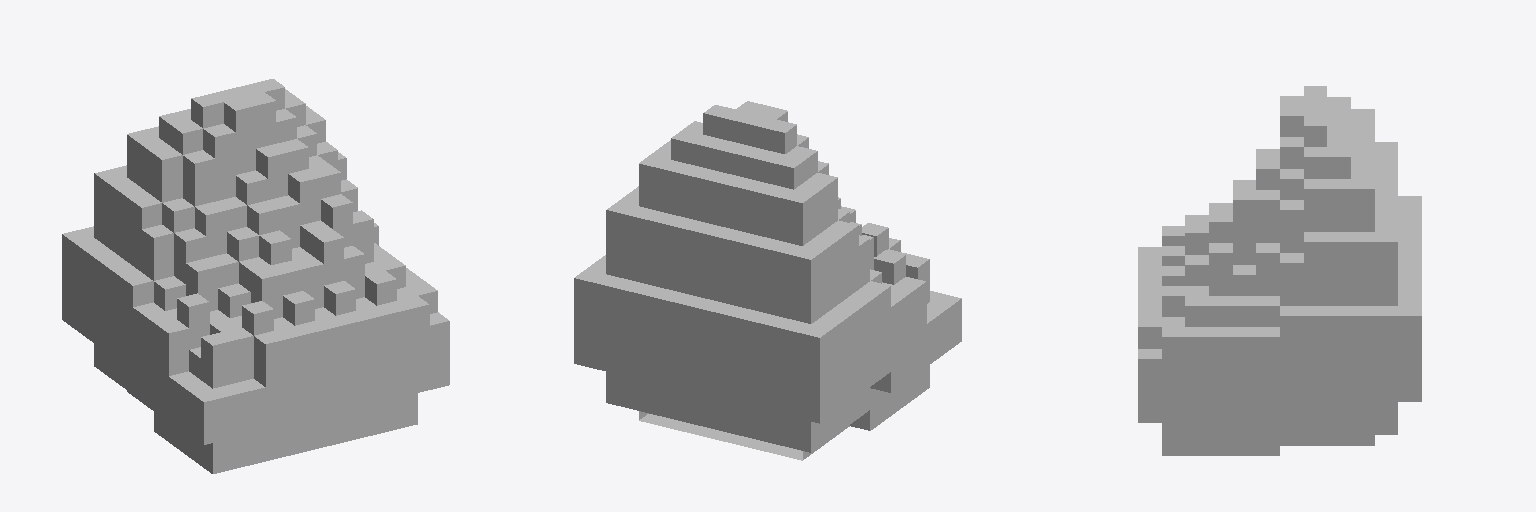
The model's file is smash3b.obj.
3 renders of one model, left to right at view 1: azimuth 30°, elevation 25°; view 2: azimuth 150°, elevation 25°; view 3: azimuth 270°, elevation 25°, orthographic.
Visible parts, largest first — view 1: smash2; view 2: smash2; view 3: smash2.
Part boxes in pixels (x1,y1,x2,y2): smash2: (62, 79, 449, 473); smash2: (574, 101, 961, 460); smash2: (1138, 86, 1421, 455).
Bounding box in the file's own units: 0.75 × 0.875 × 0.75.